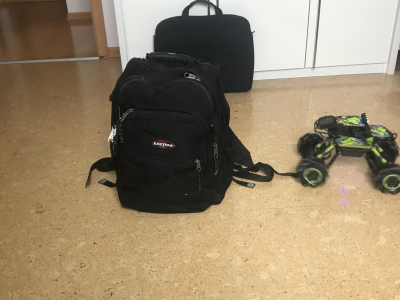remote control car: (296, 110, 400, 195)
